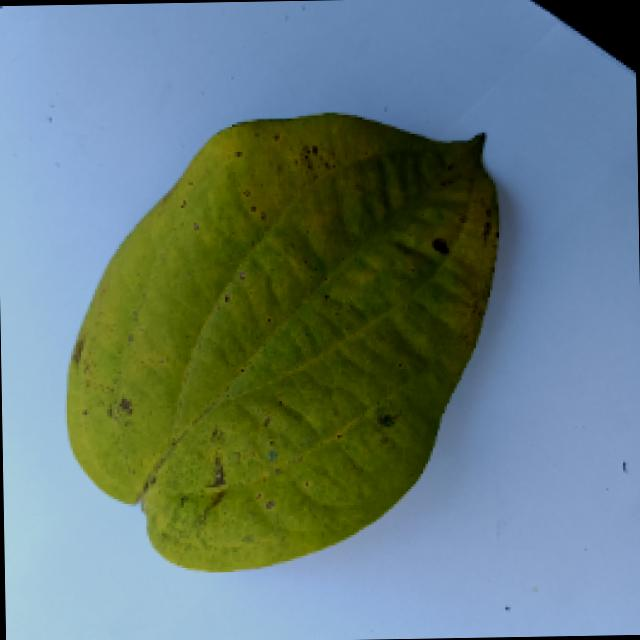slow-decline: (52, 109, 517, 574)
